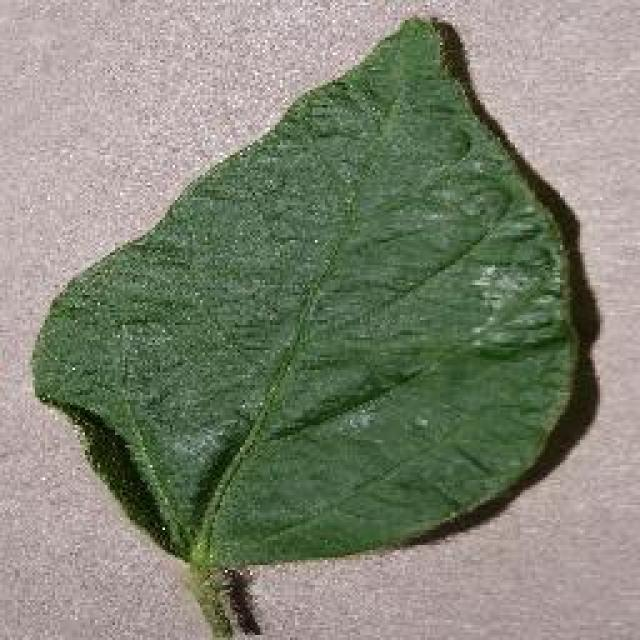Soy_healthy: (82, 66, 581, 558)
